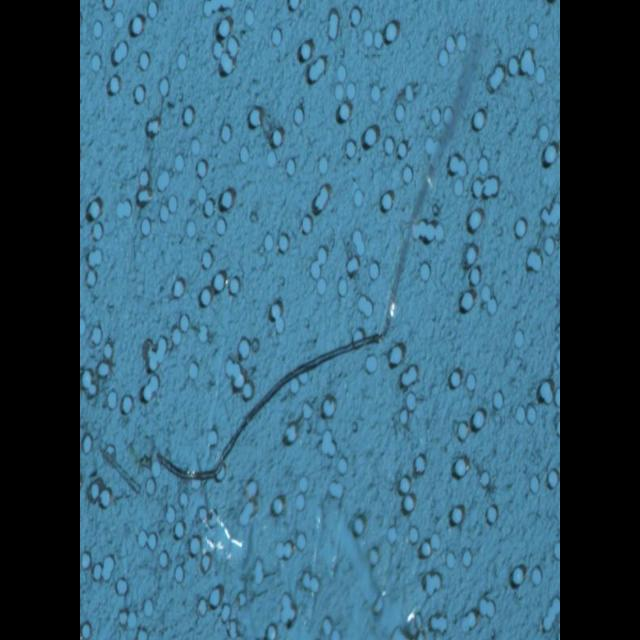Fibre: (152, 26, 488, 492)
